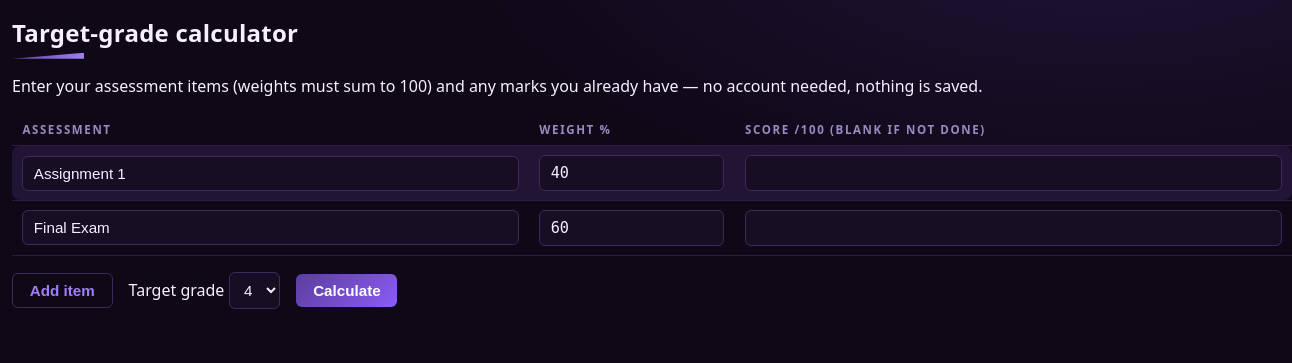
it: shows the server validation message when weights are wrong
Click the button "Calculate" at (347, 290), box 296,274 -> 397,306
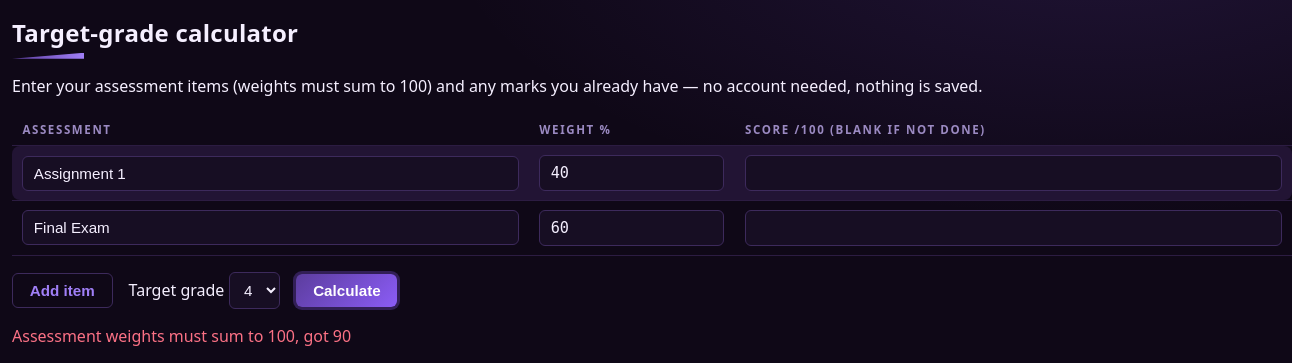
Check: the message shows "sum to 100", box 12,324 -> 351,346
